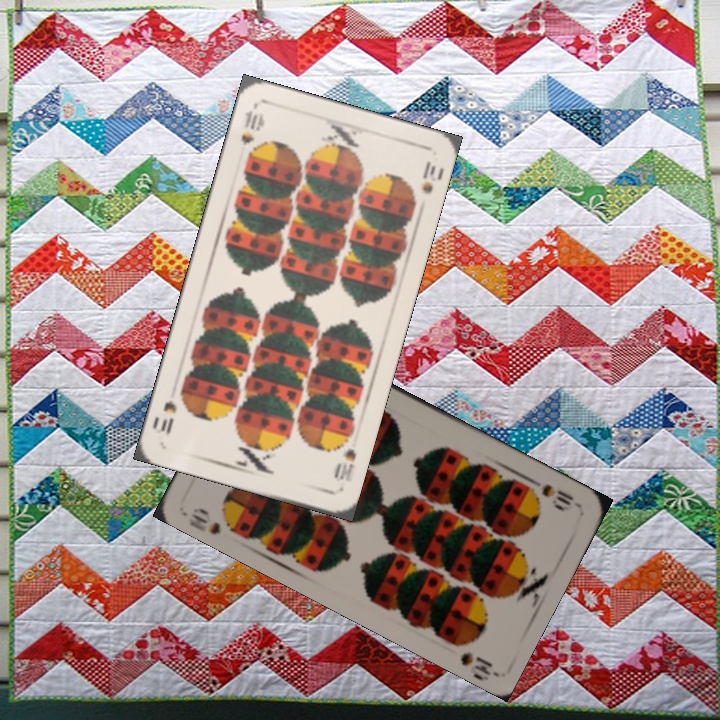S10: (184, 503, 239, 538), (237, 103, 266, 148), (537, 480, 576, 511), (330, 444, 359, 485)
